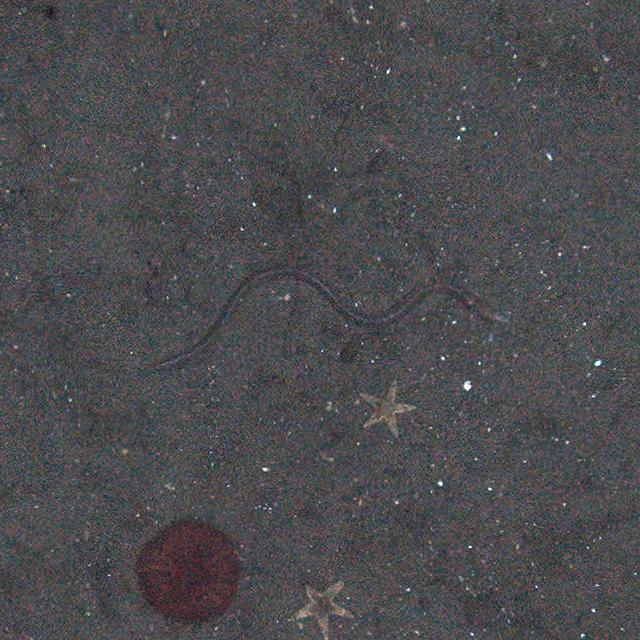eel: (158, 266, 490, 381)
